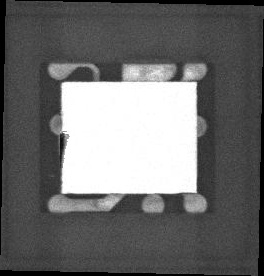DIE_BROKEN: (57, 130, 69, 167)
